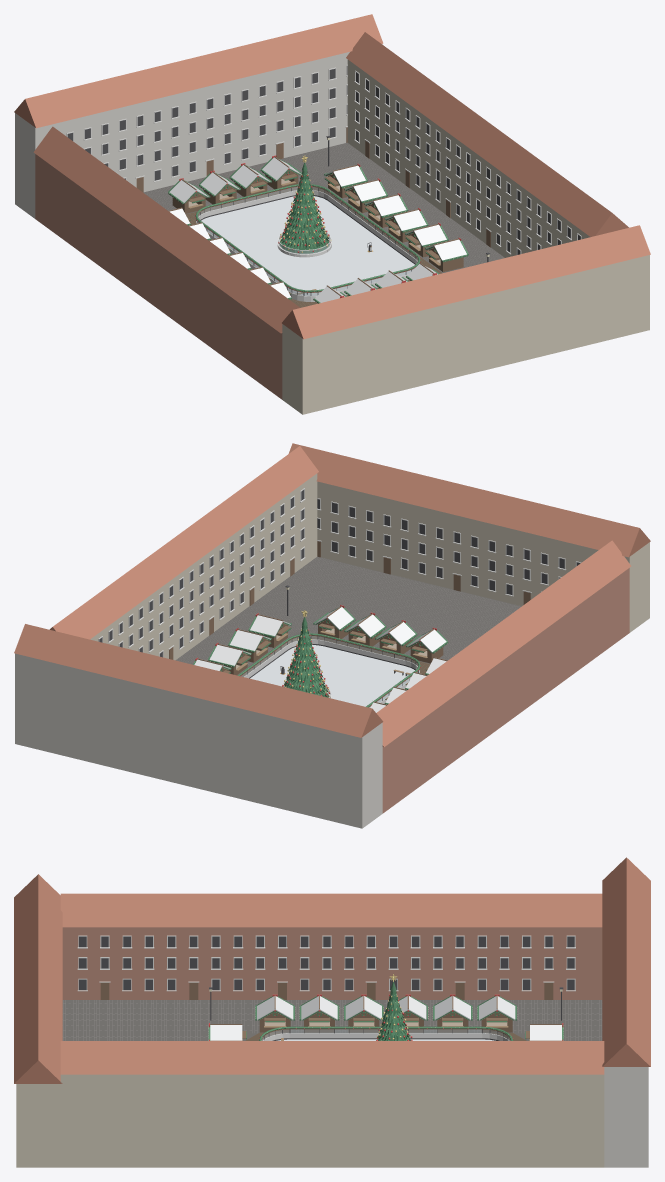
File: clay-ice-rink-market-square-clay-v007.glb
3 views of the same model, one above another, from view 1: azimuth 30°, elevation 25°; view 2: azimuth 150°, elevation 25°; view 3: azimuth 270°, elevation 25° (orthographic). The views are drawn at different scales.
Parts seen in each view (by area): view 1: CLAY_TROOF, CLAY_FACADE, CLAY_FACADE3, CLAY_FACADE2, CLAY_ICE, CLAY_TRIM, CLAY_SNOW, CLAY_DARK, CLAY_SETTS, CLAY_PLANTING, CLAY_HUT, CLAY_TIMBER (+6 smaller); view 2: CLAY_TROOF, CLAY_FACADE3, CLAY_FACADE, CLAY_FACADE2, CLAY_SETTS, CLAY_TRIM, CLAY_DARK, CLAY_ICE, CLAY_SNOW, CLAY_JOINT, CLAY_PLANTING, CLAY_HUT (+6 smaller); view 3: CLAY_TROOF, CLAY_FACADE, CLAY_FACADE2, CLAY_SETTS, CLAY_DARK, CLAY_TRIM, CLAY_FACADE3, CLAY_SNOW, CLAY_JOINT, CLAY_PLANTING, CLAY_HUT, CLAY_TIMBER (+5 smaller).
Boxes of the visible parts, bbox=[...] form: CLAY_TROOF: bbox=[14, 14, 650, 339]; CLAY_FACADE: bbox=[282, 59, 649, 414]; CLAY_FACADE3: bbox=[15, 44, 382, 218]; CLAY_FACADE2: bbox=[35, 154, 282, 399]; CLAY_ICE: bbox=[201, 196, 414, 295]; CLAY_TRIM: bbox=[66, 64, 581, 255]; CLAY_SNOW: bbox=[169, 157, 466, 302]; CLAY_DARK: bbox=[67, 66, 580, 264]; CLAY_SETTS: bbox=[143, 142, 504, 273]; CLAY_PLANTING: bbox=[168, 158, 468, 303]; CLAY_HUT: bbox=[172, 169, 463, 294]; CLAY_TIMBER: bbox=[136, 127, 490, 296]; CLAY_TROOF: bbox=[14, 443, 650, 746]; CLAY_FACADE3: bbox=[15, 653, 382, 828]; CLAY_FACADE: bbox=[90, 473, 649, 660]; CLAY_FACADE2: bbox=[382, 568, 629, 813]; CLAY_SETTS: bbox=[175, 556, 521, 675]; CLAY_TRIM: bbox=[98, 488, 581, 657]; CLAY_DARK: bbox=[99, 490, 580, 678]; CLAY_ICE: bbox=[250, 645, 414, 707]; CLAY_SNOW: bbox=[194, 607, 446, 712]; CLAY_JOINT: bbox=[177, 558, 517, 664]; CLAY_PLANTING: bbox=[193, 608, 448, 707]; CLAY_HUT: bbox=[220, 619, 443, 699]; CLAY_TROOF: bbox=[14, 857, 650, 1083]; CLAY_FACADE: bbox=[16, 1074, 604, 1167]; CLAY_FACADE2: bbox=[62, 927, 602, 999]; CLAY_SETTS: bbox=[62, 1000, 602, 1040]; CLAY_DARK: bbox=[79, 936, 574, 1040]; CLAY_TRIM: bbox=[77, 935, 575, 991]; CLAY_FACADE3: bbox=[604, 1067, 648, 1167]; CLAY_SNOW: bbox=[210, 996, 561, 1040]; CLAY_JOINT: bbox=[63, 1000, 601, 1040]; CLAY_PLANTING: bbox=[208, 996, 563, 1040]; CLAY_HUT: bbox=[242, 1011, 529, 1038]; CLAY_TIMBER: bbox=[100, 982, 561, 1040].
Bounding box in the file's own units: 60.2 × 18.5 × 86.1.
